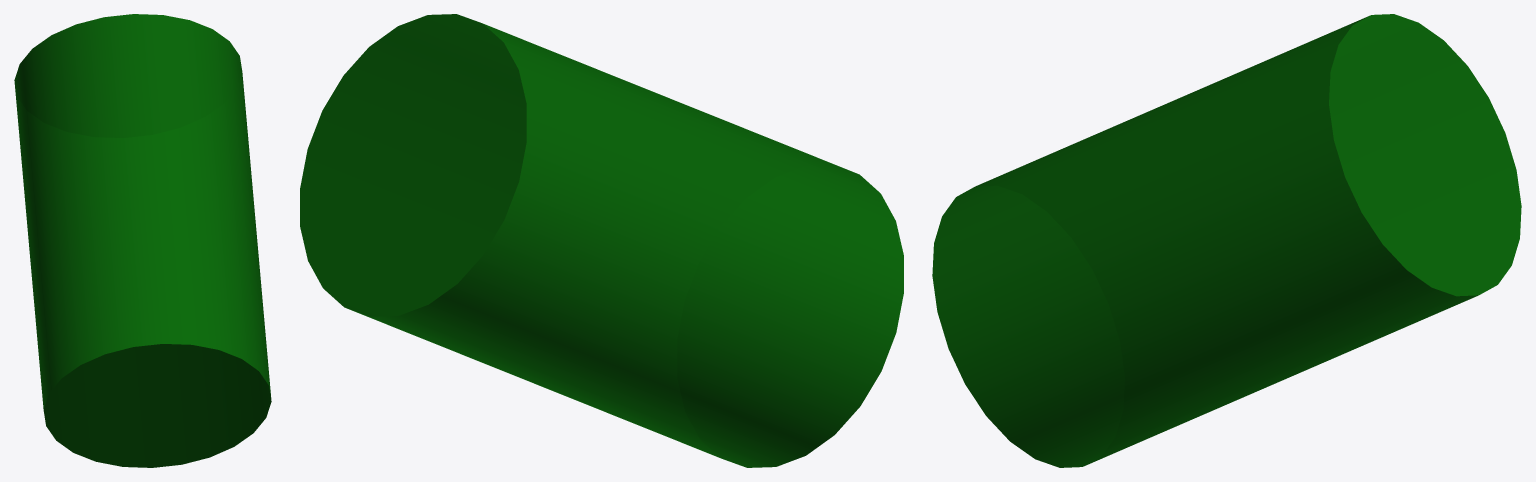
The model's file is Event_421127236_jet_3.fbx.
3 views of the same model, side by side, from view 1: azimuth 30°, elevation 25°; view 2: azimuth 150°, elevation 25°; view 3: azimuth 270°, elevation 25° (orthographic). The views are drawn at different scales.
Visible parts, largest first — view 1: Model; view 2: Model; view 3: Model.
Boxes of the visible parts, x1,y1,x2,y2 form: Model: [14, 14, 271, 467]; Model: [300, 14, 903, 467]; Model: [932, 14, 1521, 467].
Size of the model in its own units: 0.0619 by 0.0705 by 0.0783.
